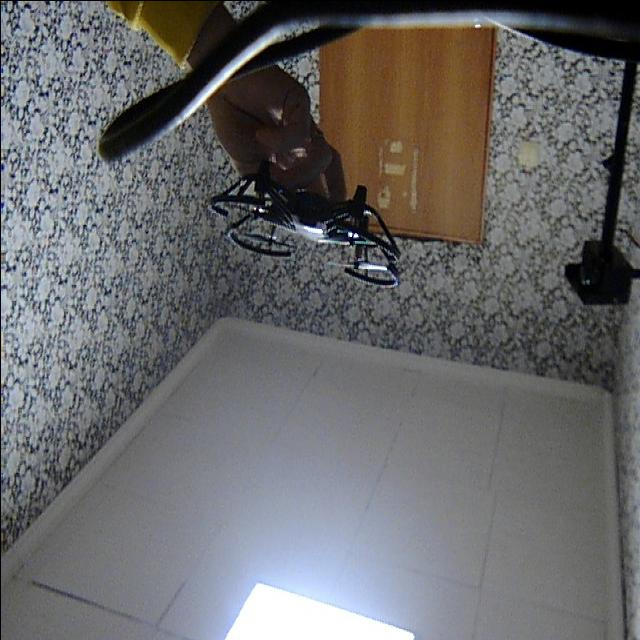drone: (205, 152, 418, 312)
